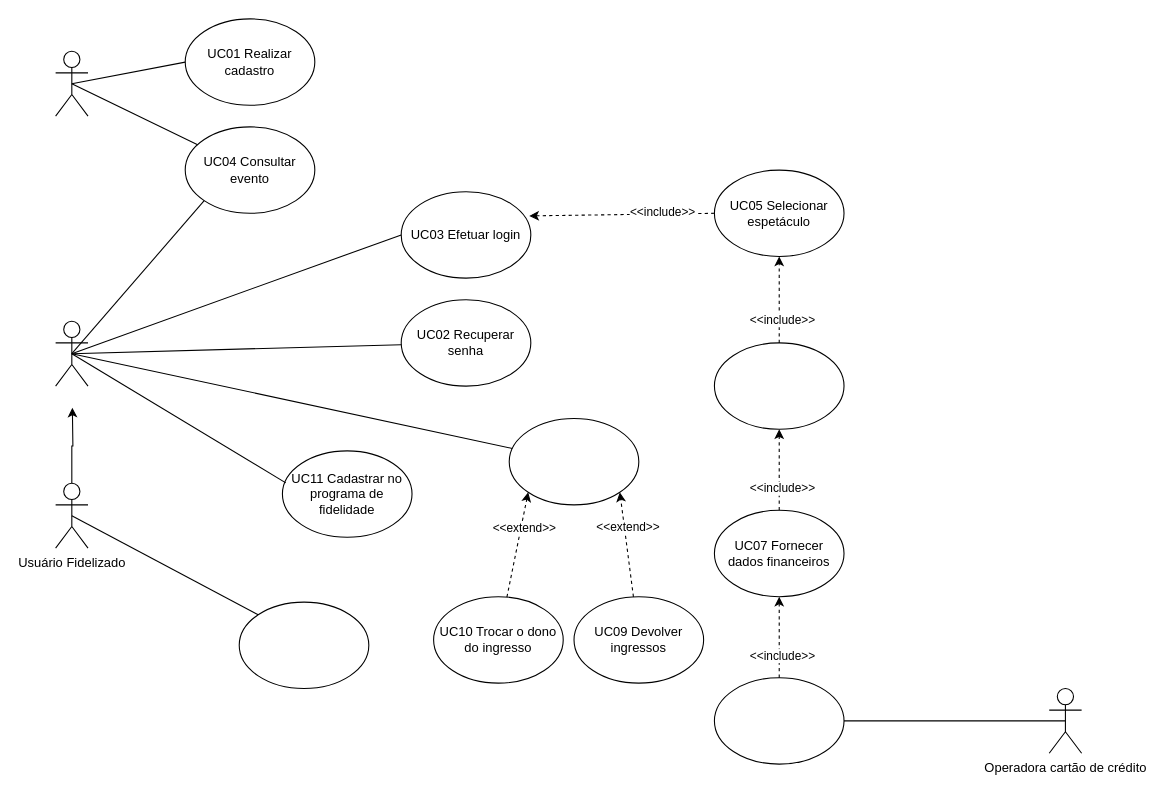
Some shapes in this 1165 by 795 pixel diagram are drawn without their labels. Here are the shapes that lost their labels. From the top down, the centre of each, then its label:
At point 71,83: "Visitante".
At point 71,353: "Usuário".
At point 778,385: "UC06 Comprar ingresso".
At point 573,461: "UC13 Verificar histórico de compras realizadas".
At point 303,644: "UC12 Acumular pontos no programa de fidelidade".
At point 778,720: "UC08 Efetuar pagamento".
